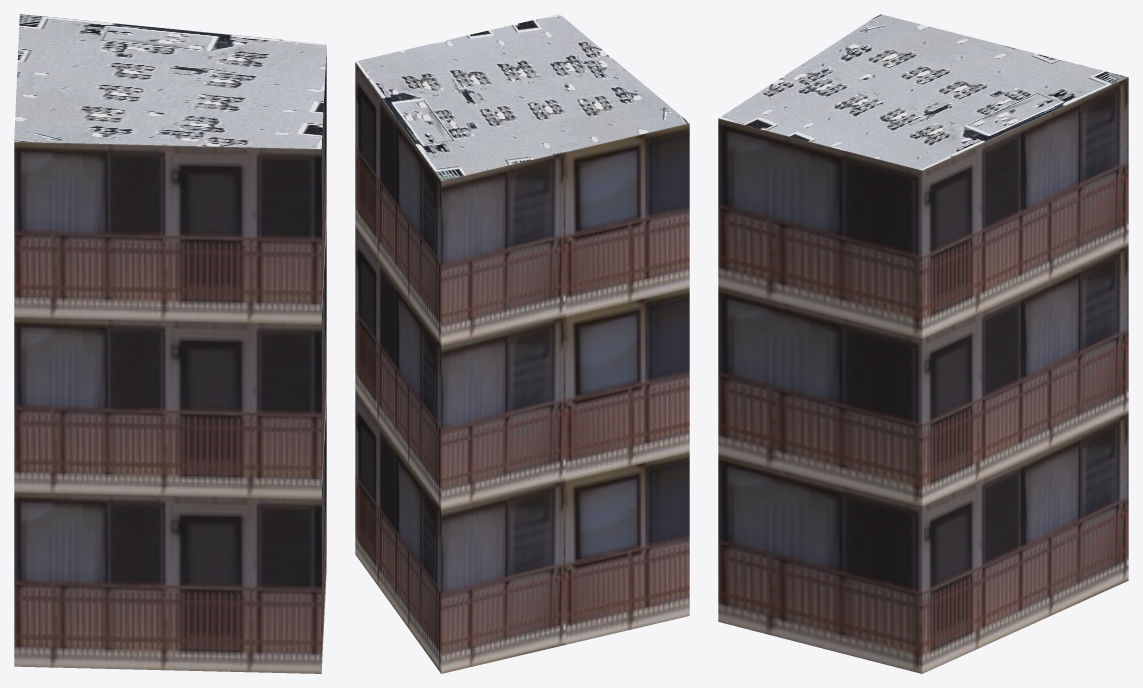
Rendered from ResTex__5247.fbx.
The picture shows the model from 3 angles, left to right: view 1: azimuth 30°, elevation 25°; view 2: azimuth 150°, elevation 25°; view 3: azimuth 270°, elevation 25°; orthographic projection. The views are drawn at different scales.
Visible parts, largest first — view 1: CityEngineMaterial_6_m, CityEngineMaterial_4_m; view 2: CityEngineMaterial_6_m, CityEngineMaterial_4_m; view 3: CityEngineMaterial_6_m, CityEngineMaterial_4_m.
Part boxes in pixels (left/top/right/bottom): CityEngineMaterial_6_m: left=14, top=50, right=326, bottom=673; CityEngineMaterial_4_m: left=14, top=14, right=326, bottom=148; CityEngineMaterial_6_m: left=355, top=62, right=689, bottom=673; CityEngineMaterial_4_m: left=355, top=14, right=689, bottom=180; CityEngineMaterial_6_m: left=718, top=77, right=1128, bottom=673; CityEngineMaterial_4_m: left=718, top=14, right=1127, bottom=170.
Size of the model in its own units: 6 by 9 by 6.65.
2 materials, 2 textured.
